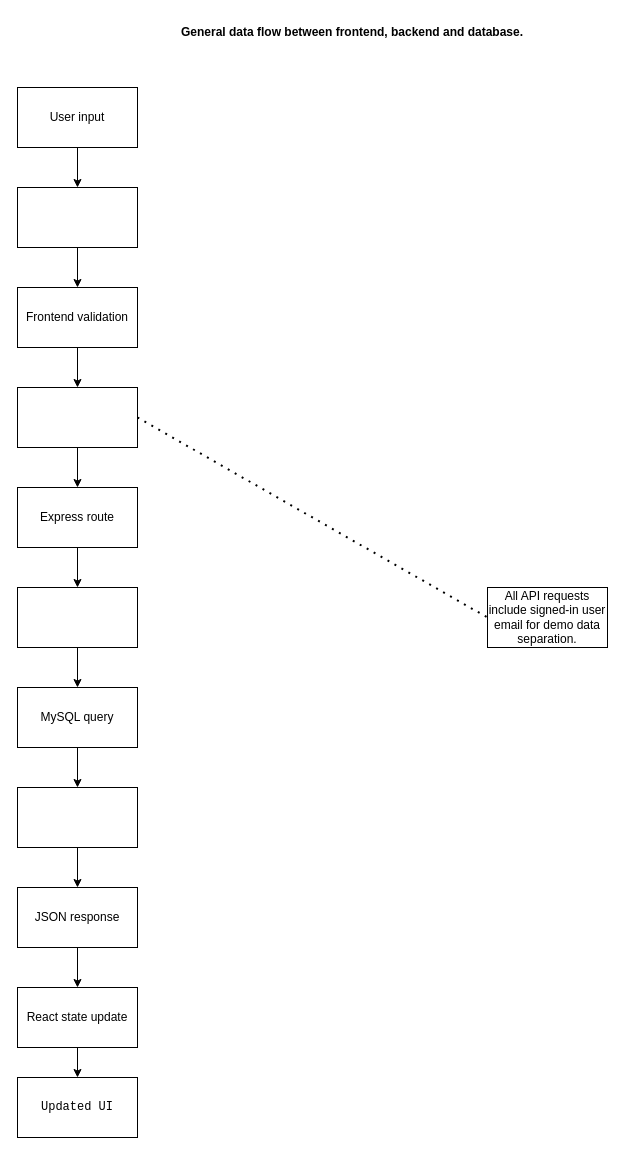
Image size: 625x1155. Some labels were removed from this diagram. Here are the shapes that lost their labels. From the top down, the centre of each, then its label:
pixel 77 217: Frontend state
pixel 77 417: Axios API request
pixel 77 617: Backend validation
pixel 77 817: Database table
